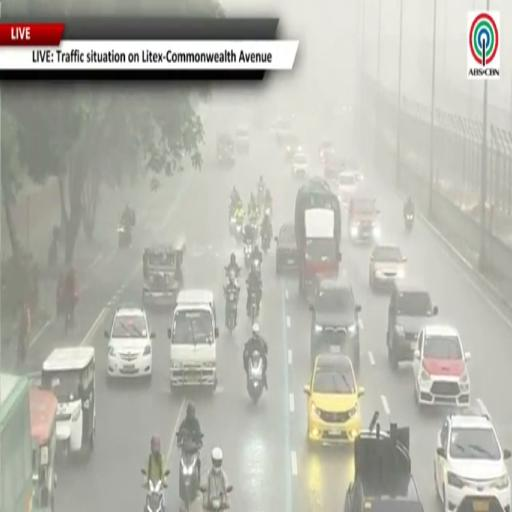bus: (0, 374, 32, 511)
car: (435, 406, 510, 511), (344, 412, 423, 511), (41, 347, 95, 457), (304, 355, 364, 443), (310, 274, 361, 371), (168, 294, 218, 390), (413, 325, 470, 407), (387, 281, 438, 369), (105, 307, 155, 379), (348, 190, 380, 243), (369, 245, 406, 290), (275, 222, 298, 275), (324, 153, 344, 195), (339, 171, 357, 206), (217, 133, 235, 167), (284, 133, 302, 162), (292, 152, 308, 179), (235, 125, 250, 153), (345, 159, 363, 182), (275, 118, 291, 143), (319, 139, 334, 164)
jeepney: (30, 388, 58, 510), (143, 246, 184, 307)
motorcycle: (177, 434, 201, 511), (247, 350, 264, 404), (200, 486, 229, 511), (144, 480, 164, 511), (226, 290, 238, 333), (247, 290, 258, 324), (48, 237, 58, 270), (118, 223, 131, 248), (257, 185, 266, 209), (244, 244, 253, 268), (404, 213, 414, 234), (234, 220, 243, 243), (251, 259, 261, 277), (262, 232, 270, 253), (230, 216, 236, 235), (264, 204, 272, 218)
truck: (295, 178, 341, 296)
